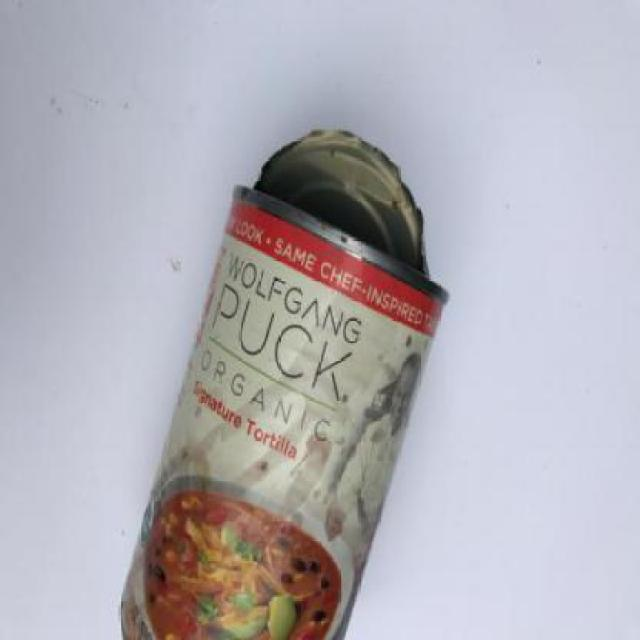METAL: (120, 183, 451, 639), (253, 131, 432, 278)
